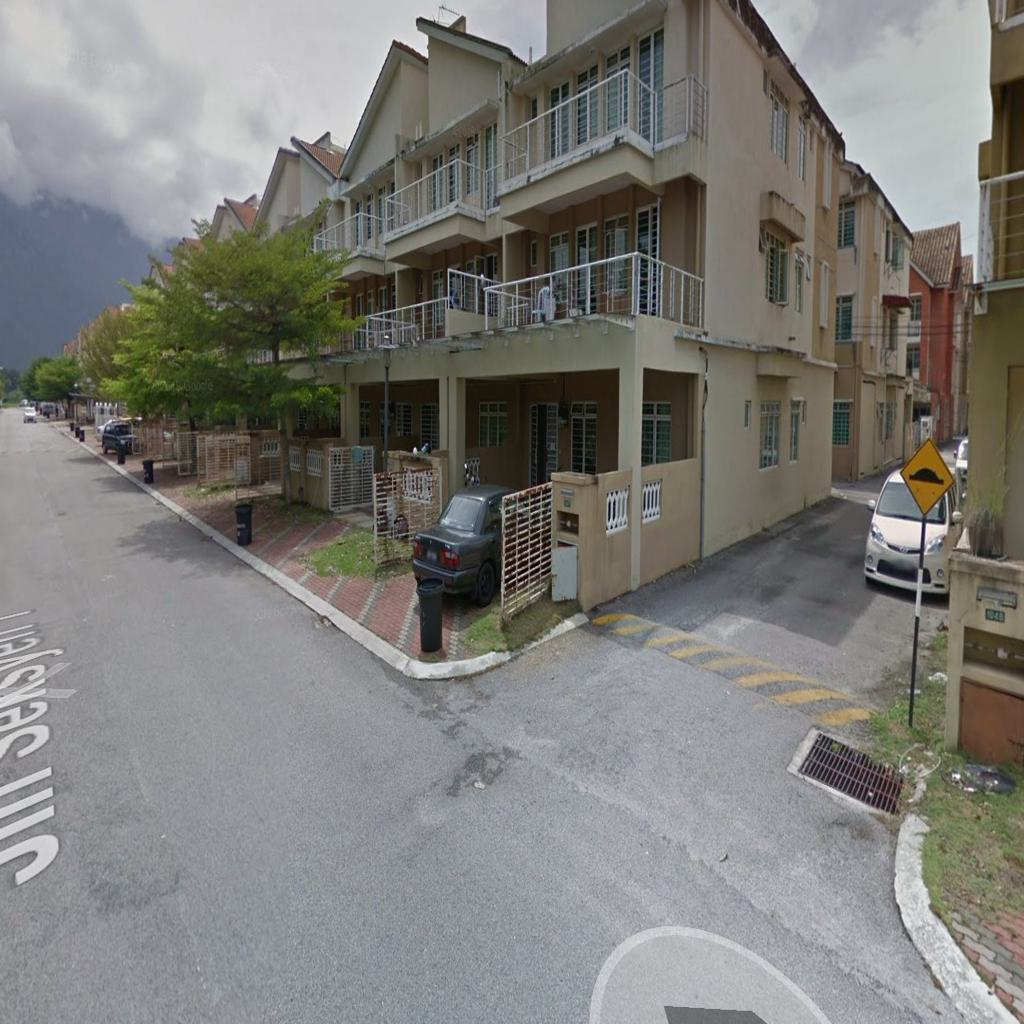Junction: (440, 546, 976, 932)
